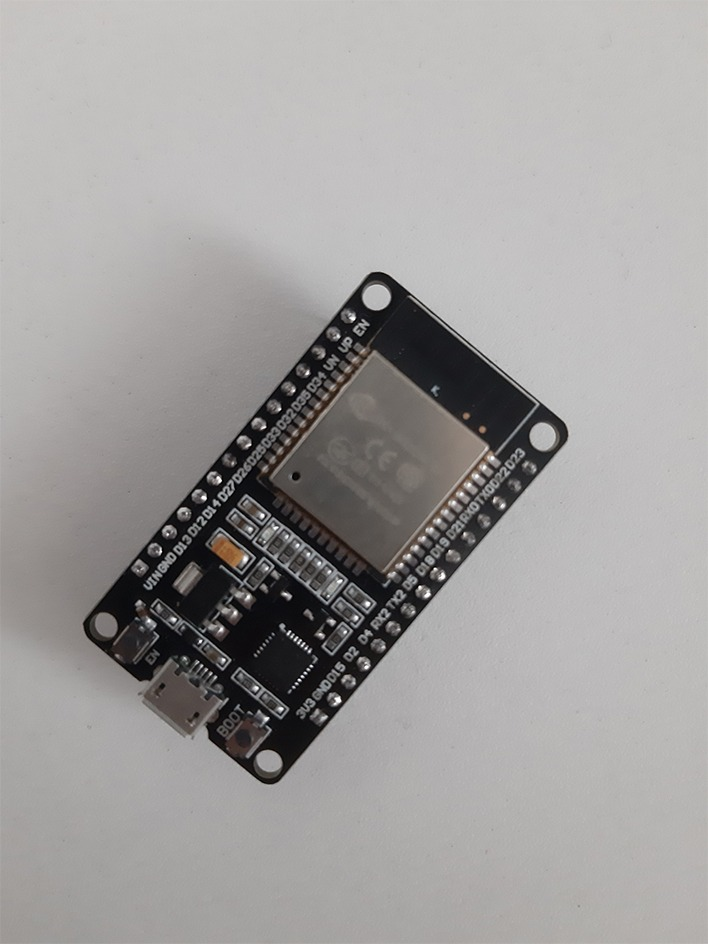ESP32-WROOM: (64, 258, 606, 835)
